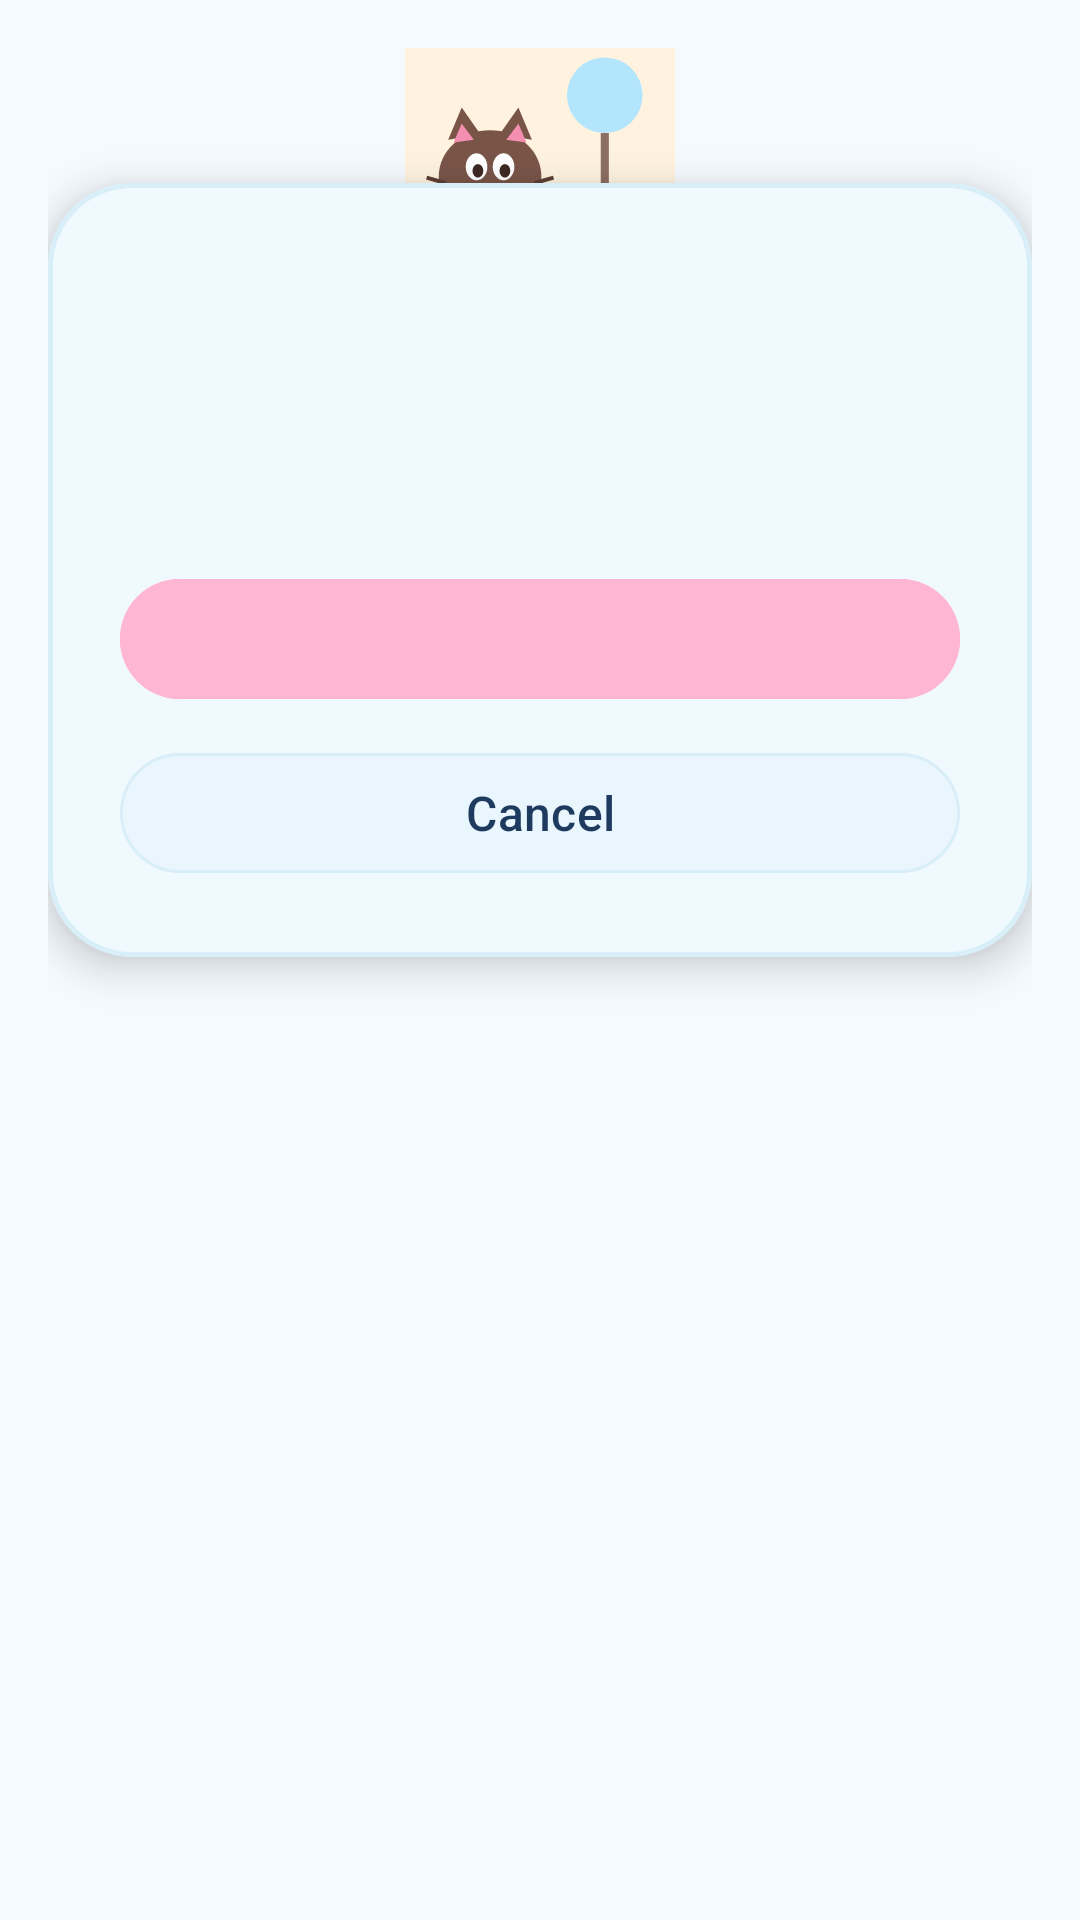

Screen size 1080*1920. Icon name, then its box in pixels as (x1, y1, x2, y2):
puzzle cute cat: (405, 48, 675, 188)
